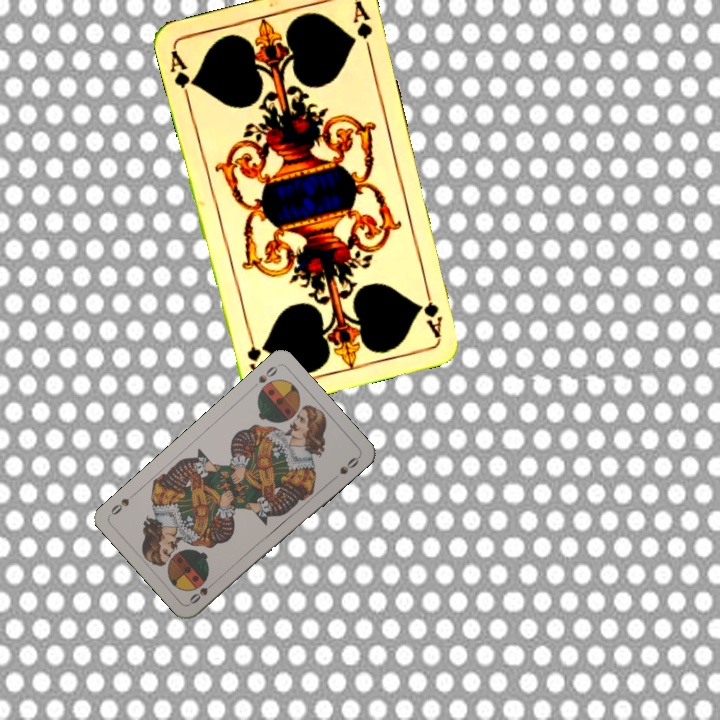GA: (166, 46, 199, 104), (419, 281, 445, 340)
SO: (185, 576, 219, 607), (254, 362, 280, 386)
